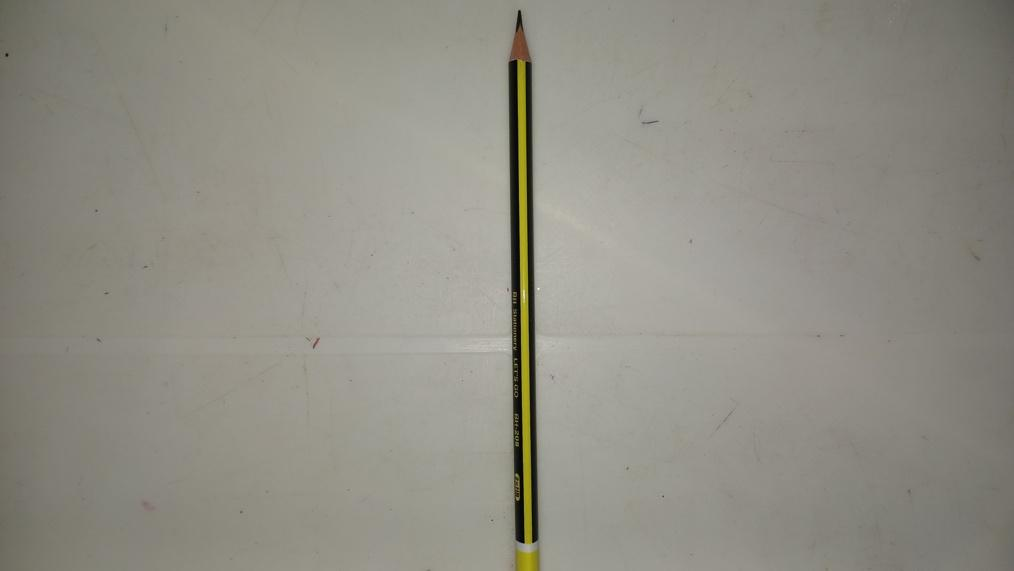Pencil: (511, 7, 535, 571)
